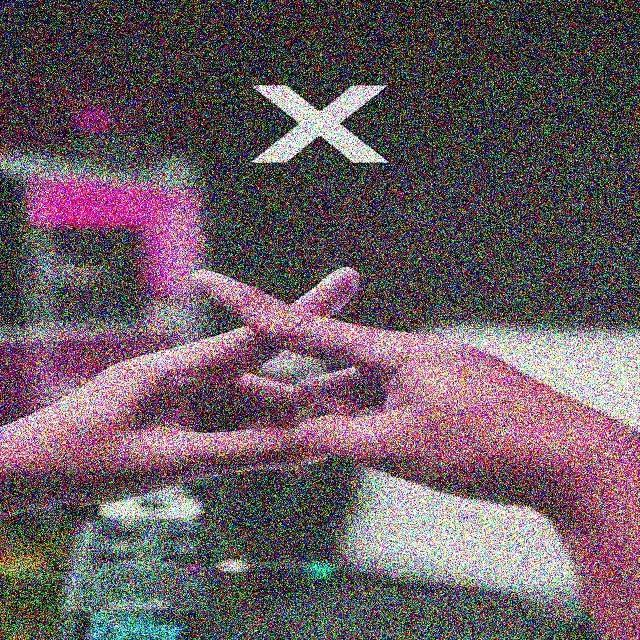X: (92, 244, 466, 500)
